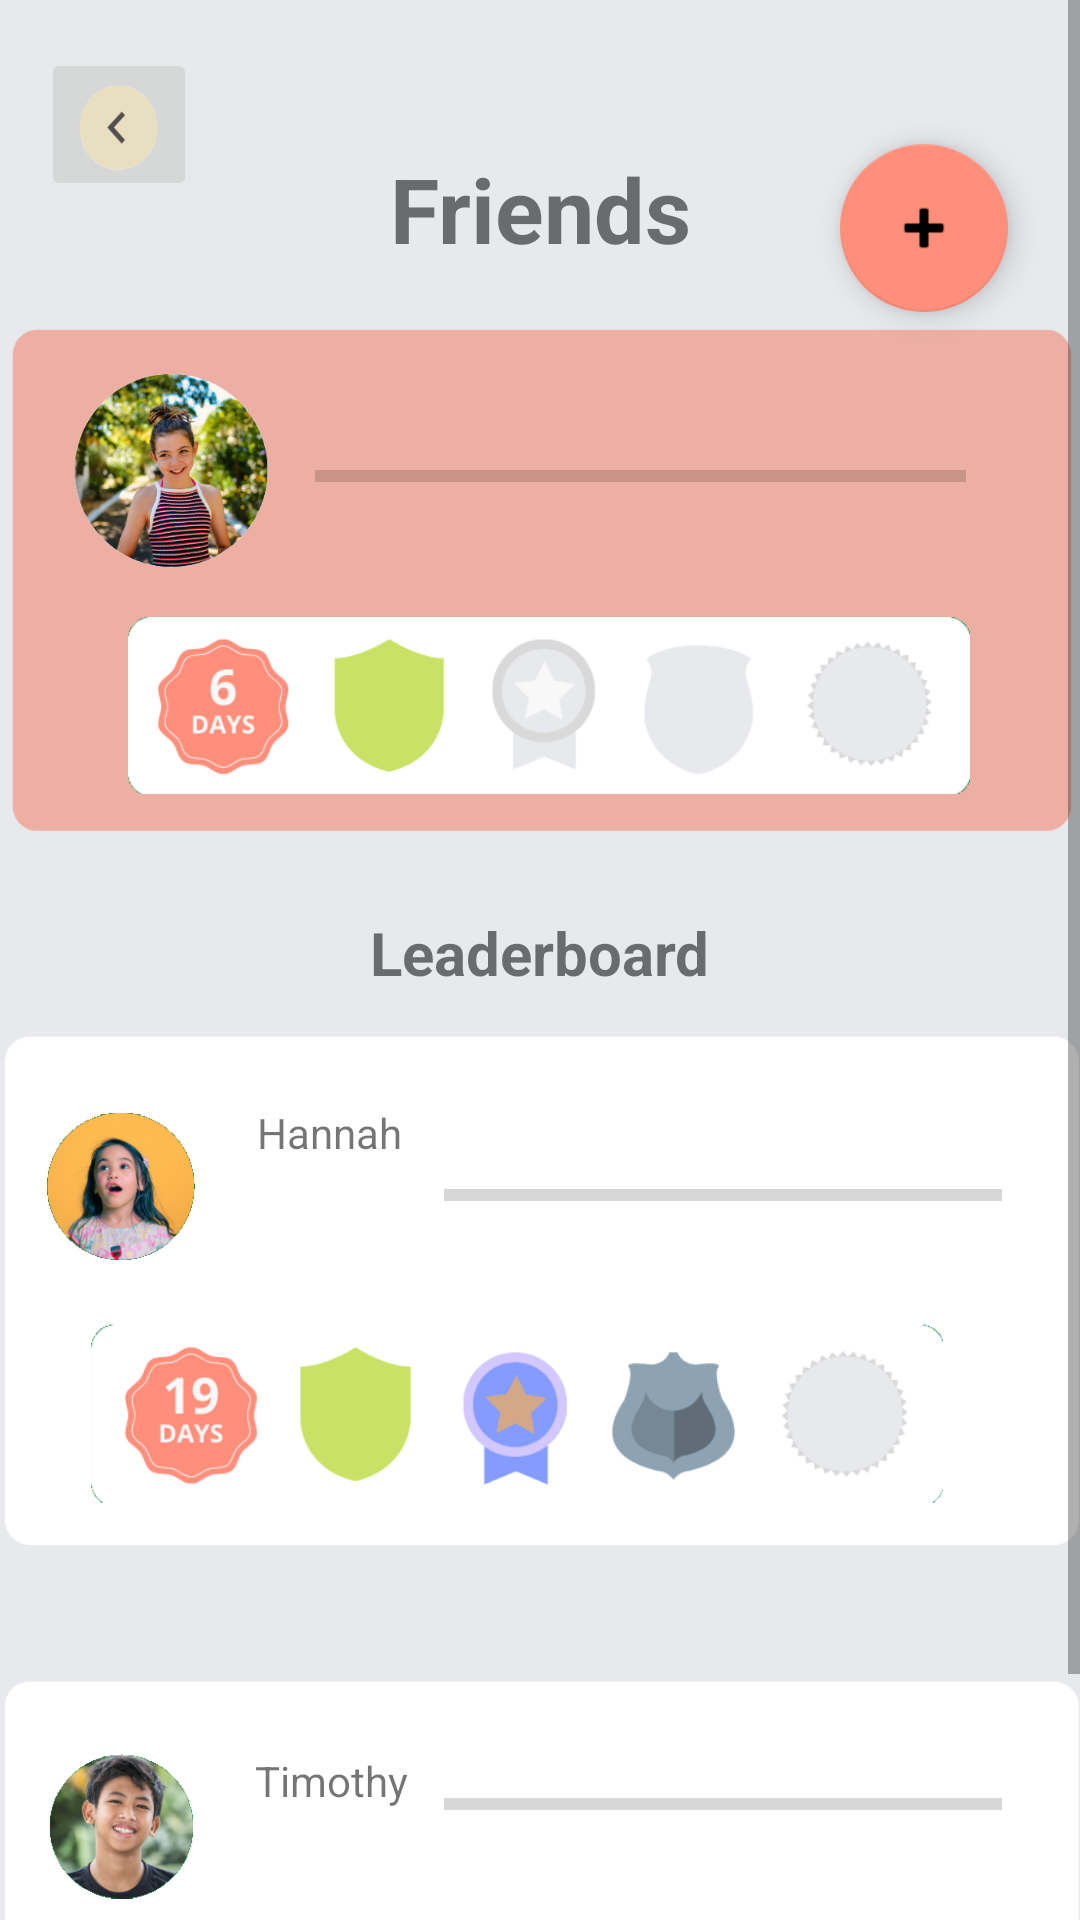

Screen size 1080*1920. Icon name, then its box in pixels as (x1, y1, x2, y2):
add: (840, 144, 1008, 312)
back: (79, 85, 158, 169)
